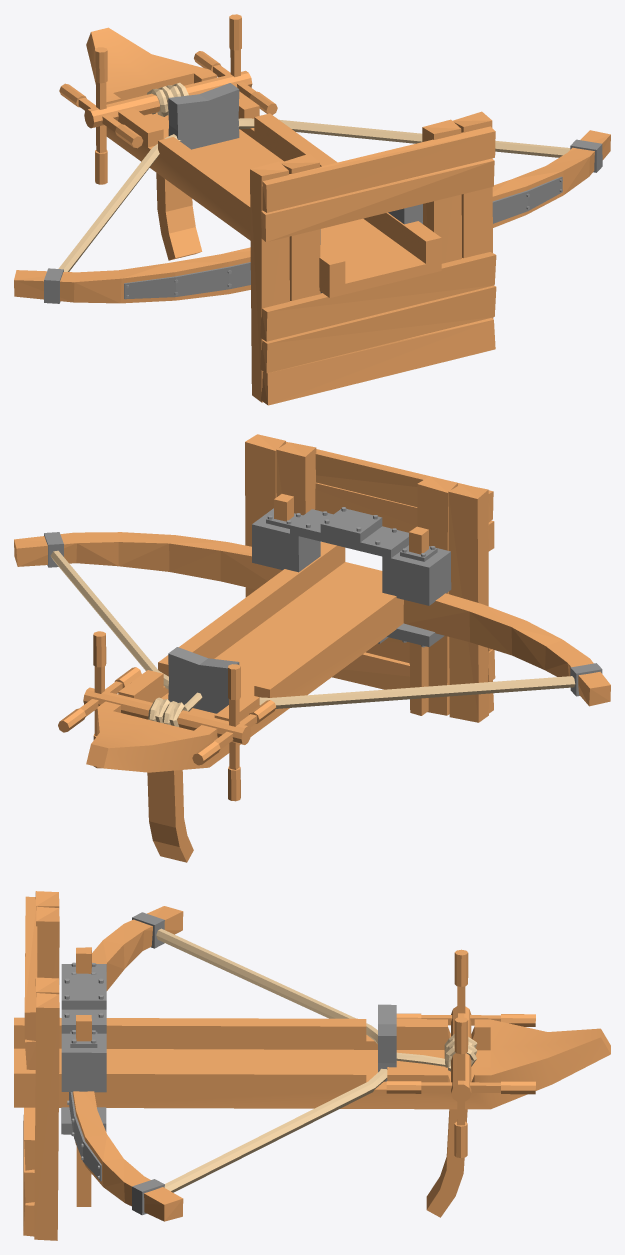
The model's file is ballista.02.fbx.
3 renders of one model, top to bottom at view 1: azimuth 30°, elevation 25°; view 2: azimuth 150°, elevation 25°; view 3: azimuth 270°, elevation 25°, orthographic. The views are drawn at different scales.
Parts seen in each view (by area): view 1: ballista.02; view 2: ballista.02; view 3: ballista.02.
Part boxes in pixels (x1,y1,x2,y2): ballista.02: [14, 14, 610, 405]; ballista.02: [14, 434, 610, 862]; ballista.02: [14, 891, 610, 1240].
Size of the model in its own units: 3.54 by 1.44 by 2.98.
